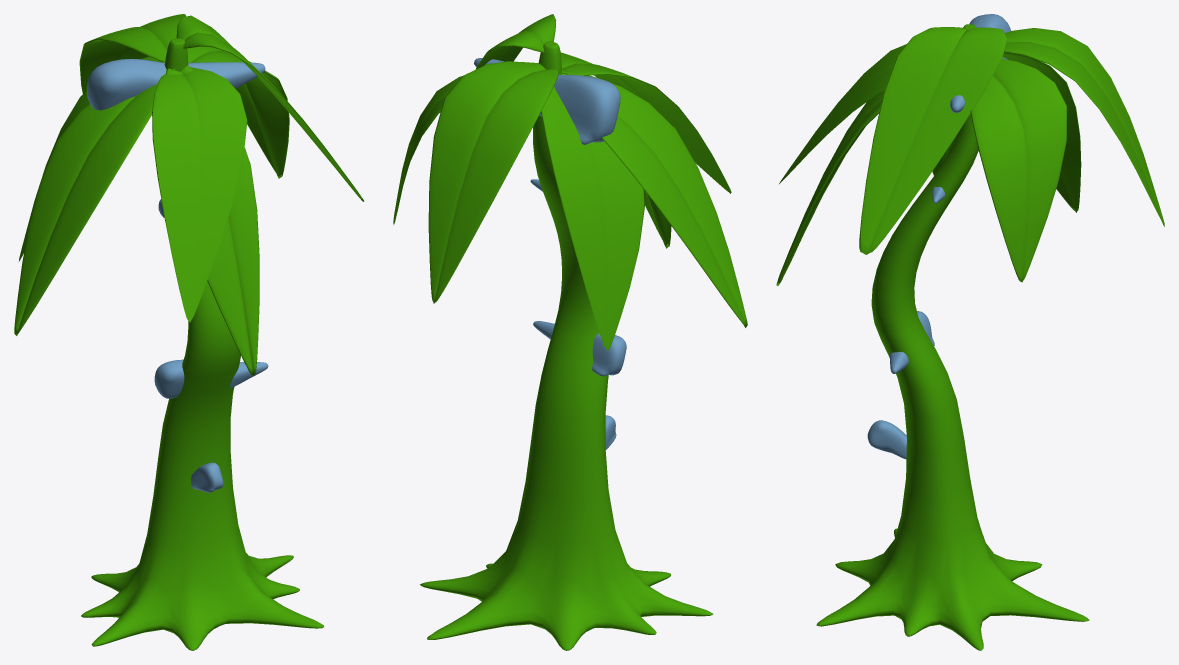
The model's file is LeafyPlant_L1.fbx.
3 views of the same model, side by side, from view 1: azimuth 30°, elevation 25°; view 2: azimuth 150°, elevation 25°; view 3: azimuth 270°, elevation 25° (orthographic). The views are drawn at different scales.
Visible parts, largest first — view 1: LeafyBlight_L1; view 2: LeafyBlight_L1; view 3: LeafyBlight_L1.
Part boxes in pixels (x1,y1,x2,y2): LeafyBlight_L1: [14, 14, 364, 650]; LeafyBlight_L1: [393, 14, 747, 650]; LeafyBlight_L1: [776, 14, 1164, 650].
Bounding box in the file's own units: 12.53 × 21.58 × 13.24.
